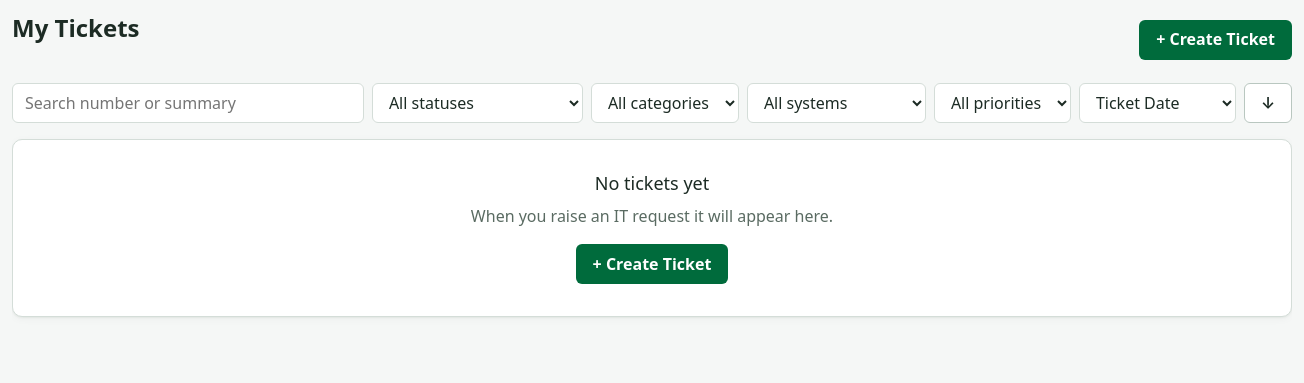
it: My Tickets › UI-15: shows a distinct no-results state with a working Clear filters
Check: the heading "No tickets yet" is shown, box [595,171,709,195]
Type "zzz" into the search field named "Search tickets" at (188,103), box [12,83,364,123]
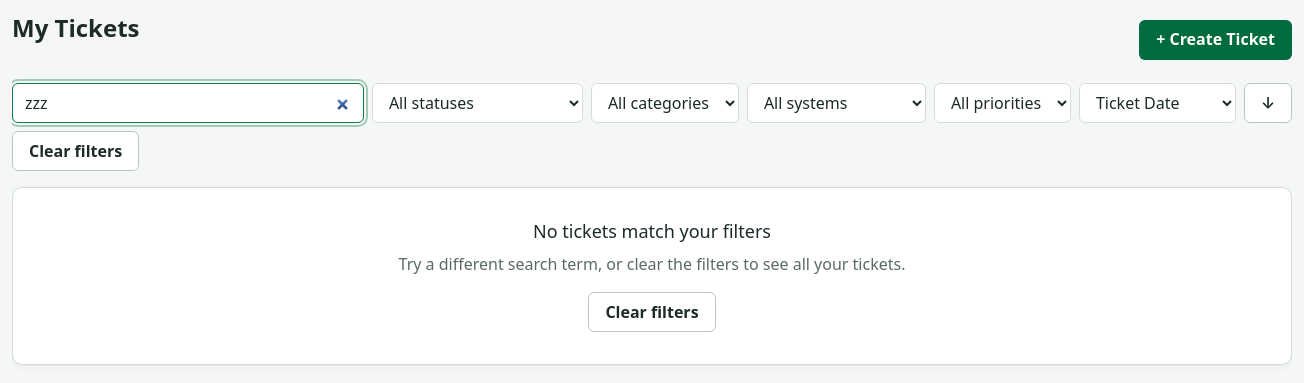
Check: the heading "No tickets match your filters" is shown, box [533,219,771,243]
// Clear filters appears in both the toolbar and the no-results panel.
Click the 1st button "Clear filters" at (76,151), box [12,131,139,171]
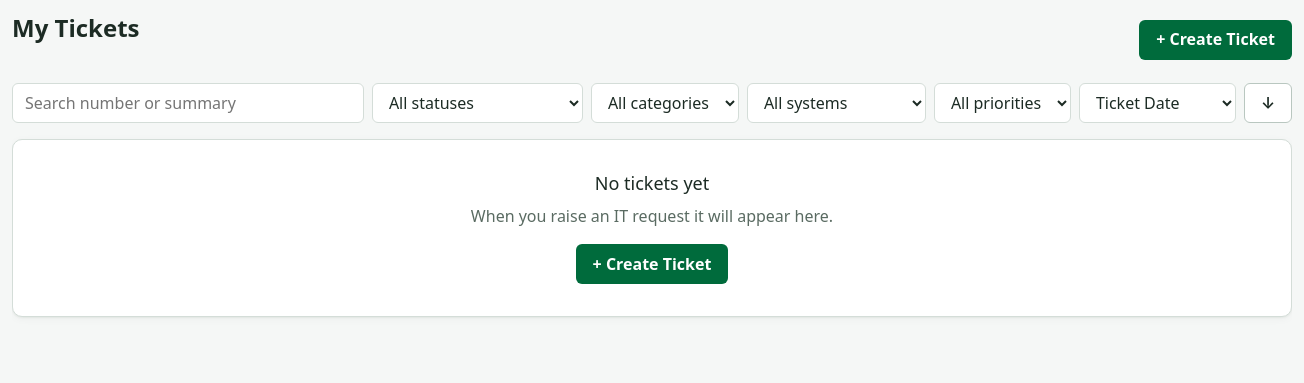
Check: the search field named "Search tickets" is empty, box [12,83,364,123]
